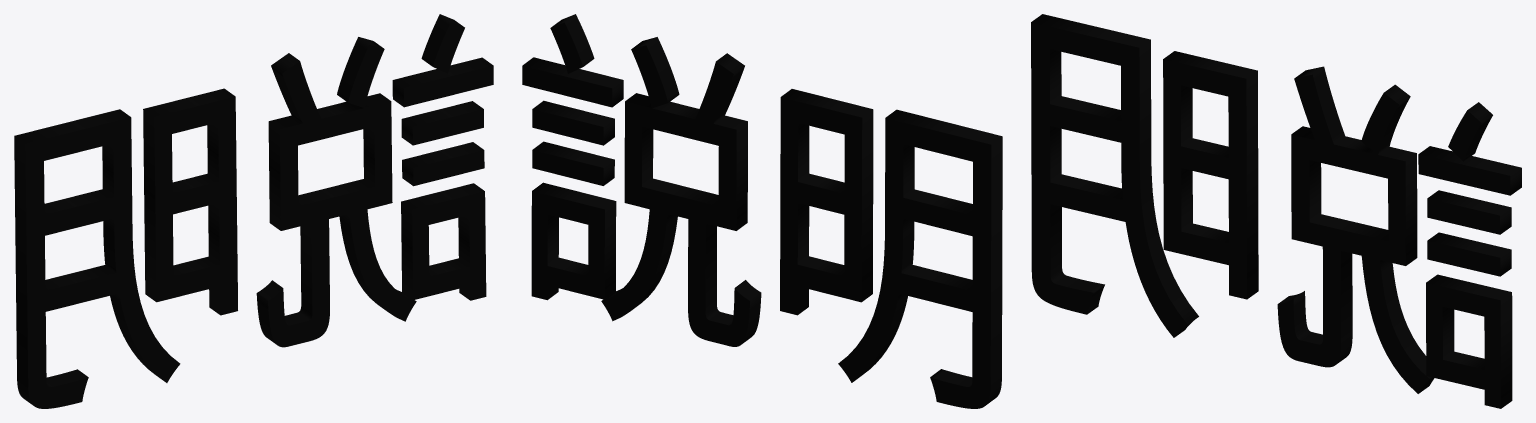
File: DescriptionName.obj
3 views of the same model, side by side, from view 1: azimuth 30°, elevation 25°; view 2: azimuth 150°, elevation 25°; view 3: azimuth 330°, elevation 25° (orthographic). The views are drawn at different scales.
Visible parts, largest first — view 1: テキスト; view 2: テキスト; view 3: テキスト.
Part boxes in pixels (left/top/right/bottom): テキスト: left=14, top=14, right=493, bottom=408; テキスト: left=522, top=14, right=1002, bottom=408; テキスト: left=1031, top=14, right=1521, bottom=408.
Size of the model in its own units: 2.72 by 1.62 by 0.1255.
